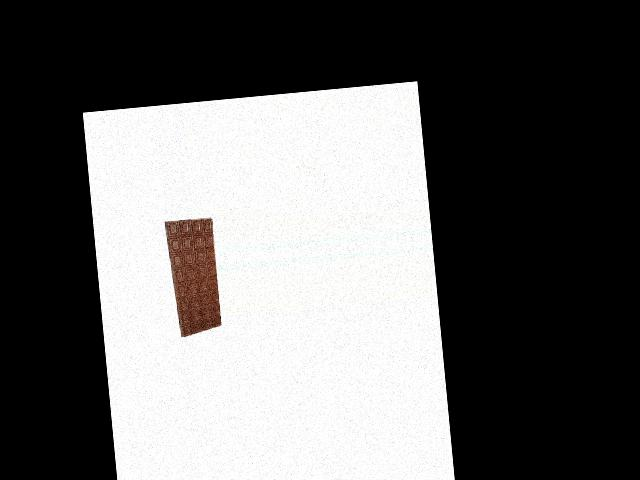chocolate: (165, 215, 223, 339)
